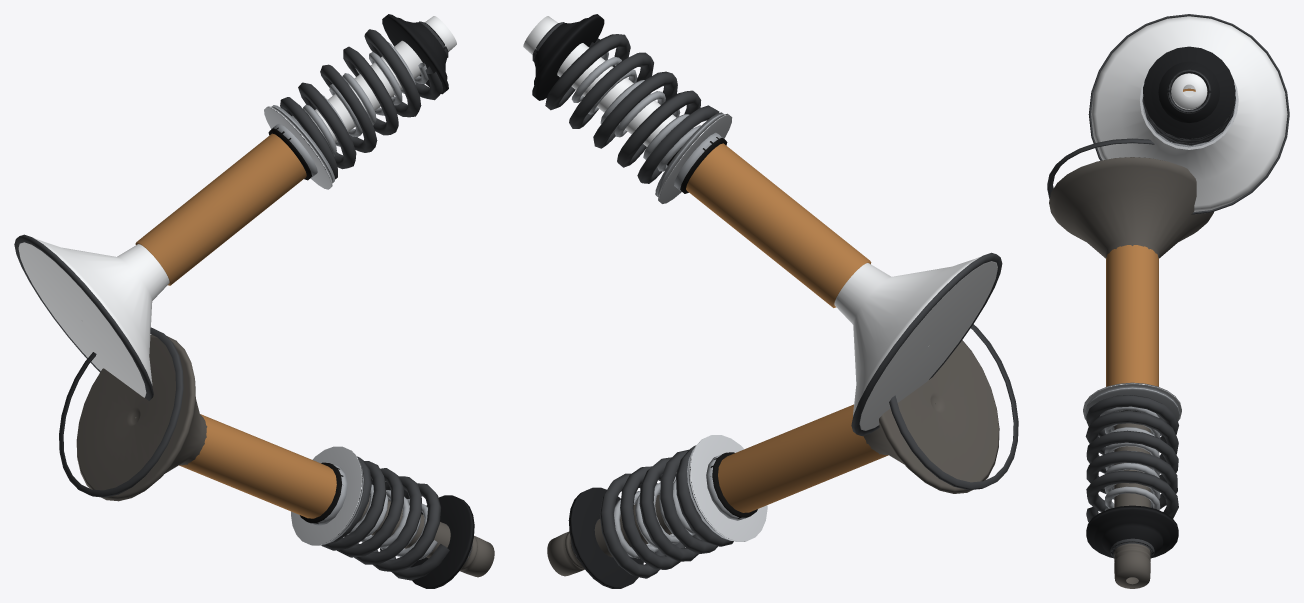
The model's file is valve-set-3.glb.
3 renders of one model, left to right at view 1: azimuth 30°, elevation 25°; view 2: azimuth 150°, elevation 25°; view 3: azimuth 270°, elevation 25°, orthographic. The views are drawn at different scales.
Visible parts, largest first — view 1: valve-set-3:darkSteel, valve-set-3:bronze, valve-set-3:chrome, valve-set-3:heatSteel, valve-set-3:steel, valve-set-3:satinBlack, valve-set-3:polishedSteel, valve-set-3:rubber; view 2: valve-set-3:darkSteel, valve-set-3:bronze, valve-set-3:chrome, valve-set-3:heatSteel, valve-set-3:steel, valve-set-3:satinBlack, valve-set-3:polishedSteel, valve-set-3:rubber; view 3: valve-set-3:chrome, valve-set-3:heatSteel, valve-set-3:darkSteel, valve-set-3:satinBlack, valve-set-3:bronze, valve-set-3:steel, valve-set-3:polishedSteel.
Boxes of the visible parts, left/top/right/bottom form: valve-set-3:darkSteel: left=14, top=21, right=472, bottom=580; valve-set-3:bronze: left=135, top=133, right=336, bottom=518; valve-set-3:chrome: left=18, top=16, right=456, bottom=397; valve-set-3:heatSteel: left=76, top=334, right=494, bottom=577; valve-set-3:steel: left=271, top=42, right=437, bottom=559; valve-set-3:satinBlack: left=382, top=14, right=474, bottom=588; valve-set-3:polishedSteel: left=264, top=106, right=363, bottom=545; valve-set-3:rubber: left=268, top=127, right=343, bottom=523; valve-set-3:darkSteel: left=532, top=22, right=1018, bottom=578; valve-set-3:bronze: left=686, top=143, right=888, bottom=512; valve-set-3:chrome: left=523, top=16, right=997, bottom=430; valve-set-3:heatSteel: left=547, top=340, right=999, bottom=576; valve-set-3:steel: left=571, top=47, right=750, bottom=558; valve-set-3:satinBlack: left=532, top=14, right=643, bottom=588; valve-set-3:polishedSteel: left=658, top=113, right=767, bottom=541; valve-set-3:rubber: left=667, top=136, right=757, bottom=518; valve-set-3:chrome: left=1091, top=16, right=1287, bottom=211; valve-set-3:heatSteel: left=1049, top=157, right=1213, bottom=588; valve-set-3:darkSteel: left=1047, top=14, right=1289, bottom=558; valve-set-3:satinBlack: left=1086, top=46, right=1235, bottom=558; valve-set-3:bronze: left=1106, top=88, right=1195, bottom=386; valve-set-3:steel: left=1085, top=94, right=1236, bottom=510; valve-set-3:polishedSteel: left=1083, top=76, right=1238, bottom=420.
Size of the model in its own units: 114 by 142 by 59.81.
